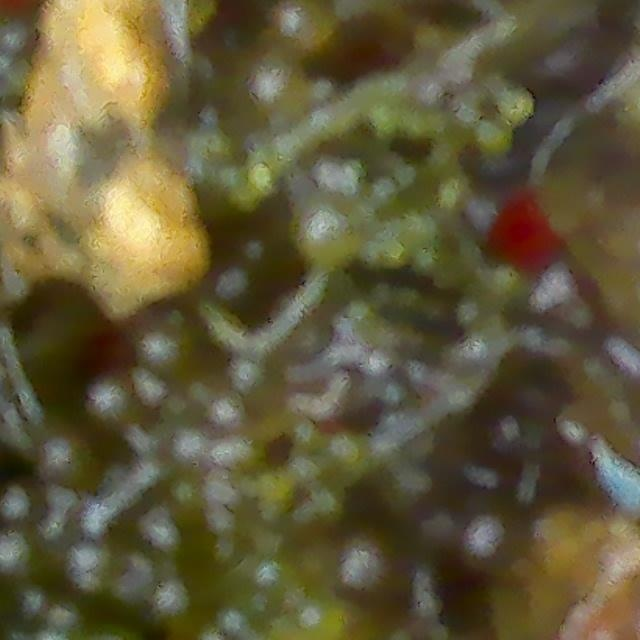SeaGrape: (336, 529, 392, 592), (455, 508, 517, 557), (134, 321, 194, 366), (41, 420, 87, 476), (94, 376, 141, 424)
